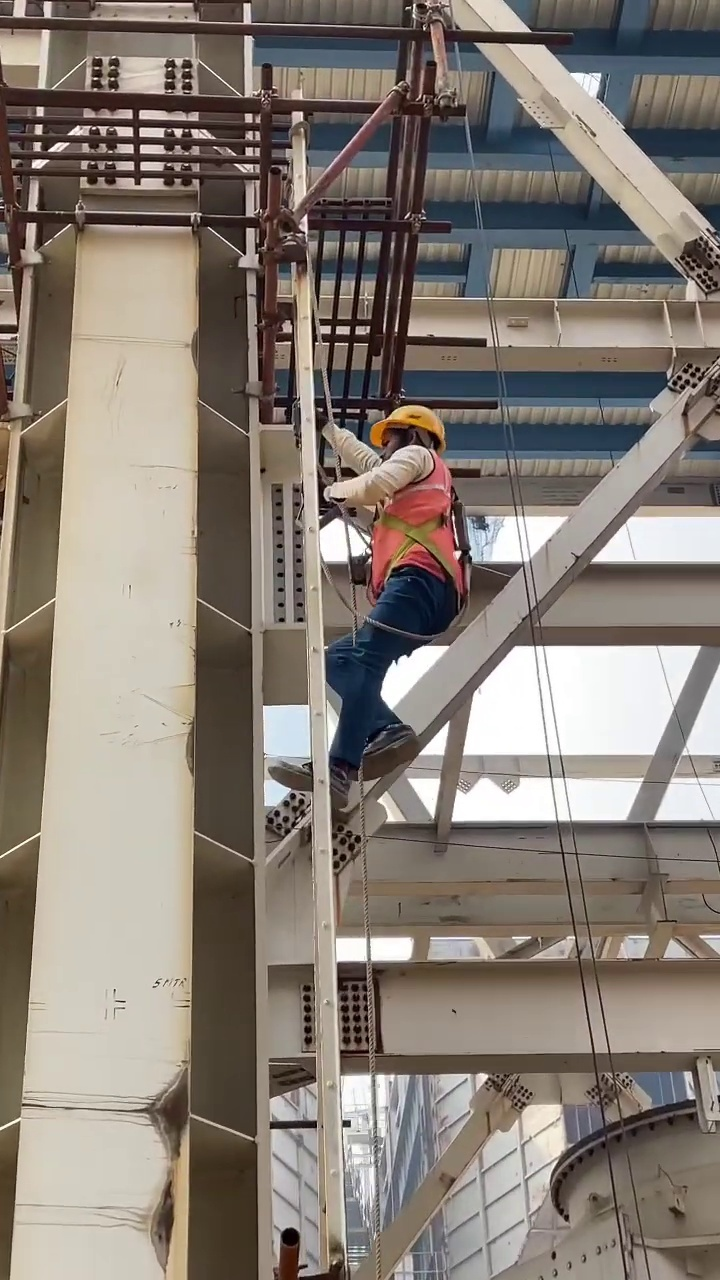Helmet: (373, 407, 449, 448)
Person: (269, 407, 469, 809)
Safety_Harness: (339, 452, 471, 640)
Safety_shoes: (269, 759, 351, 810), (355, 724, 422, 780)
